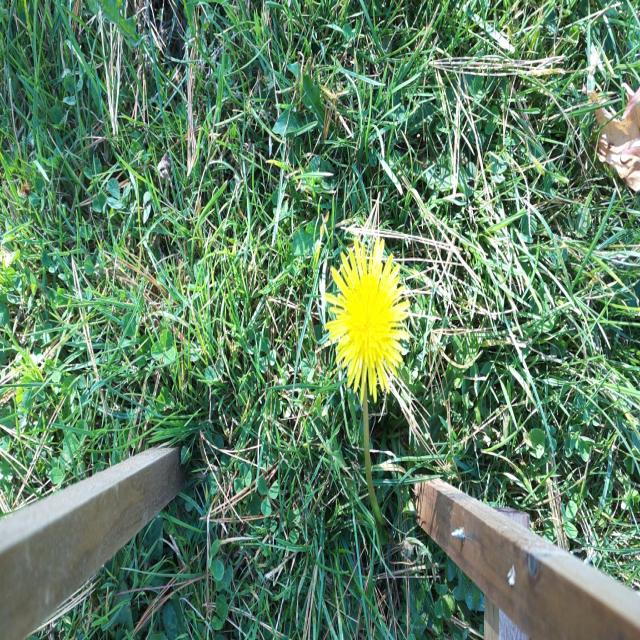base: (373, 504, 394, 542)
flower: (325, 236, 403, 391)
